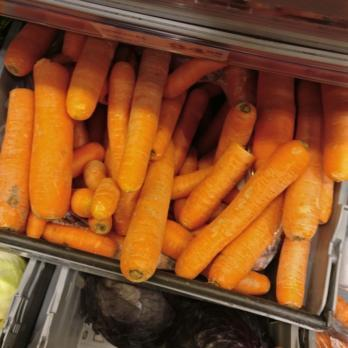Carrot: (203, 74, 334, 292), (98, 46, 199, 285), (7, 26, 96, 236)
